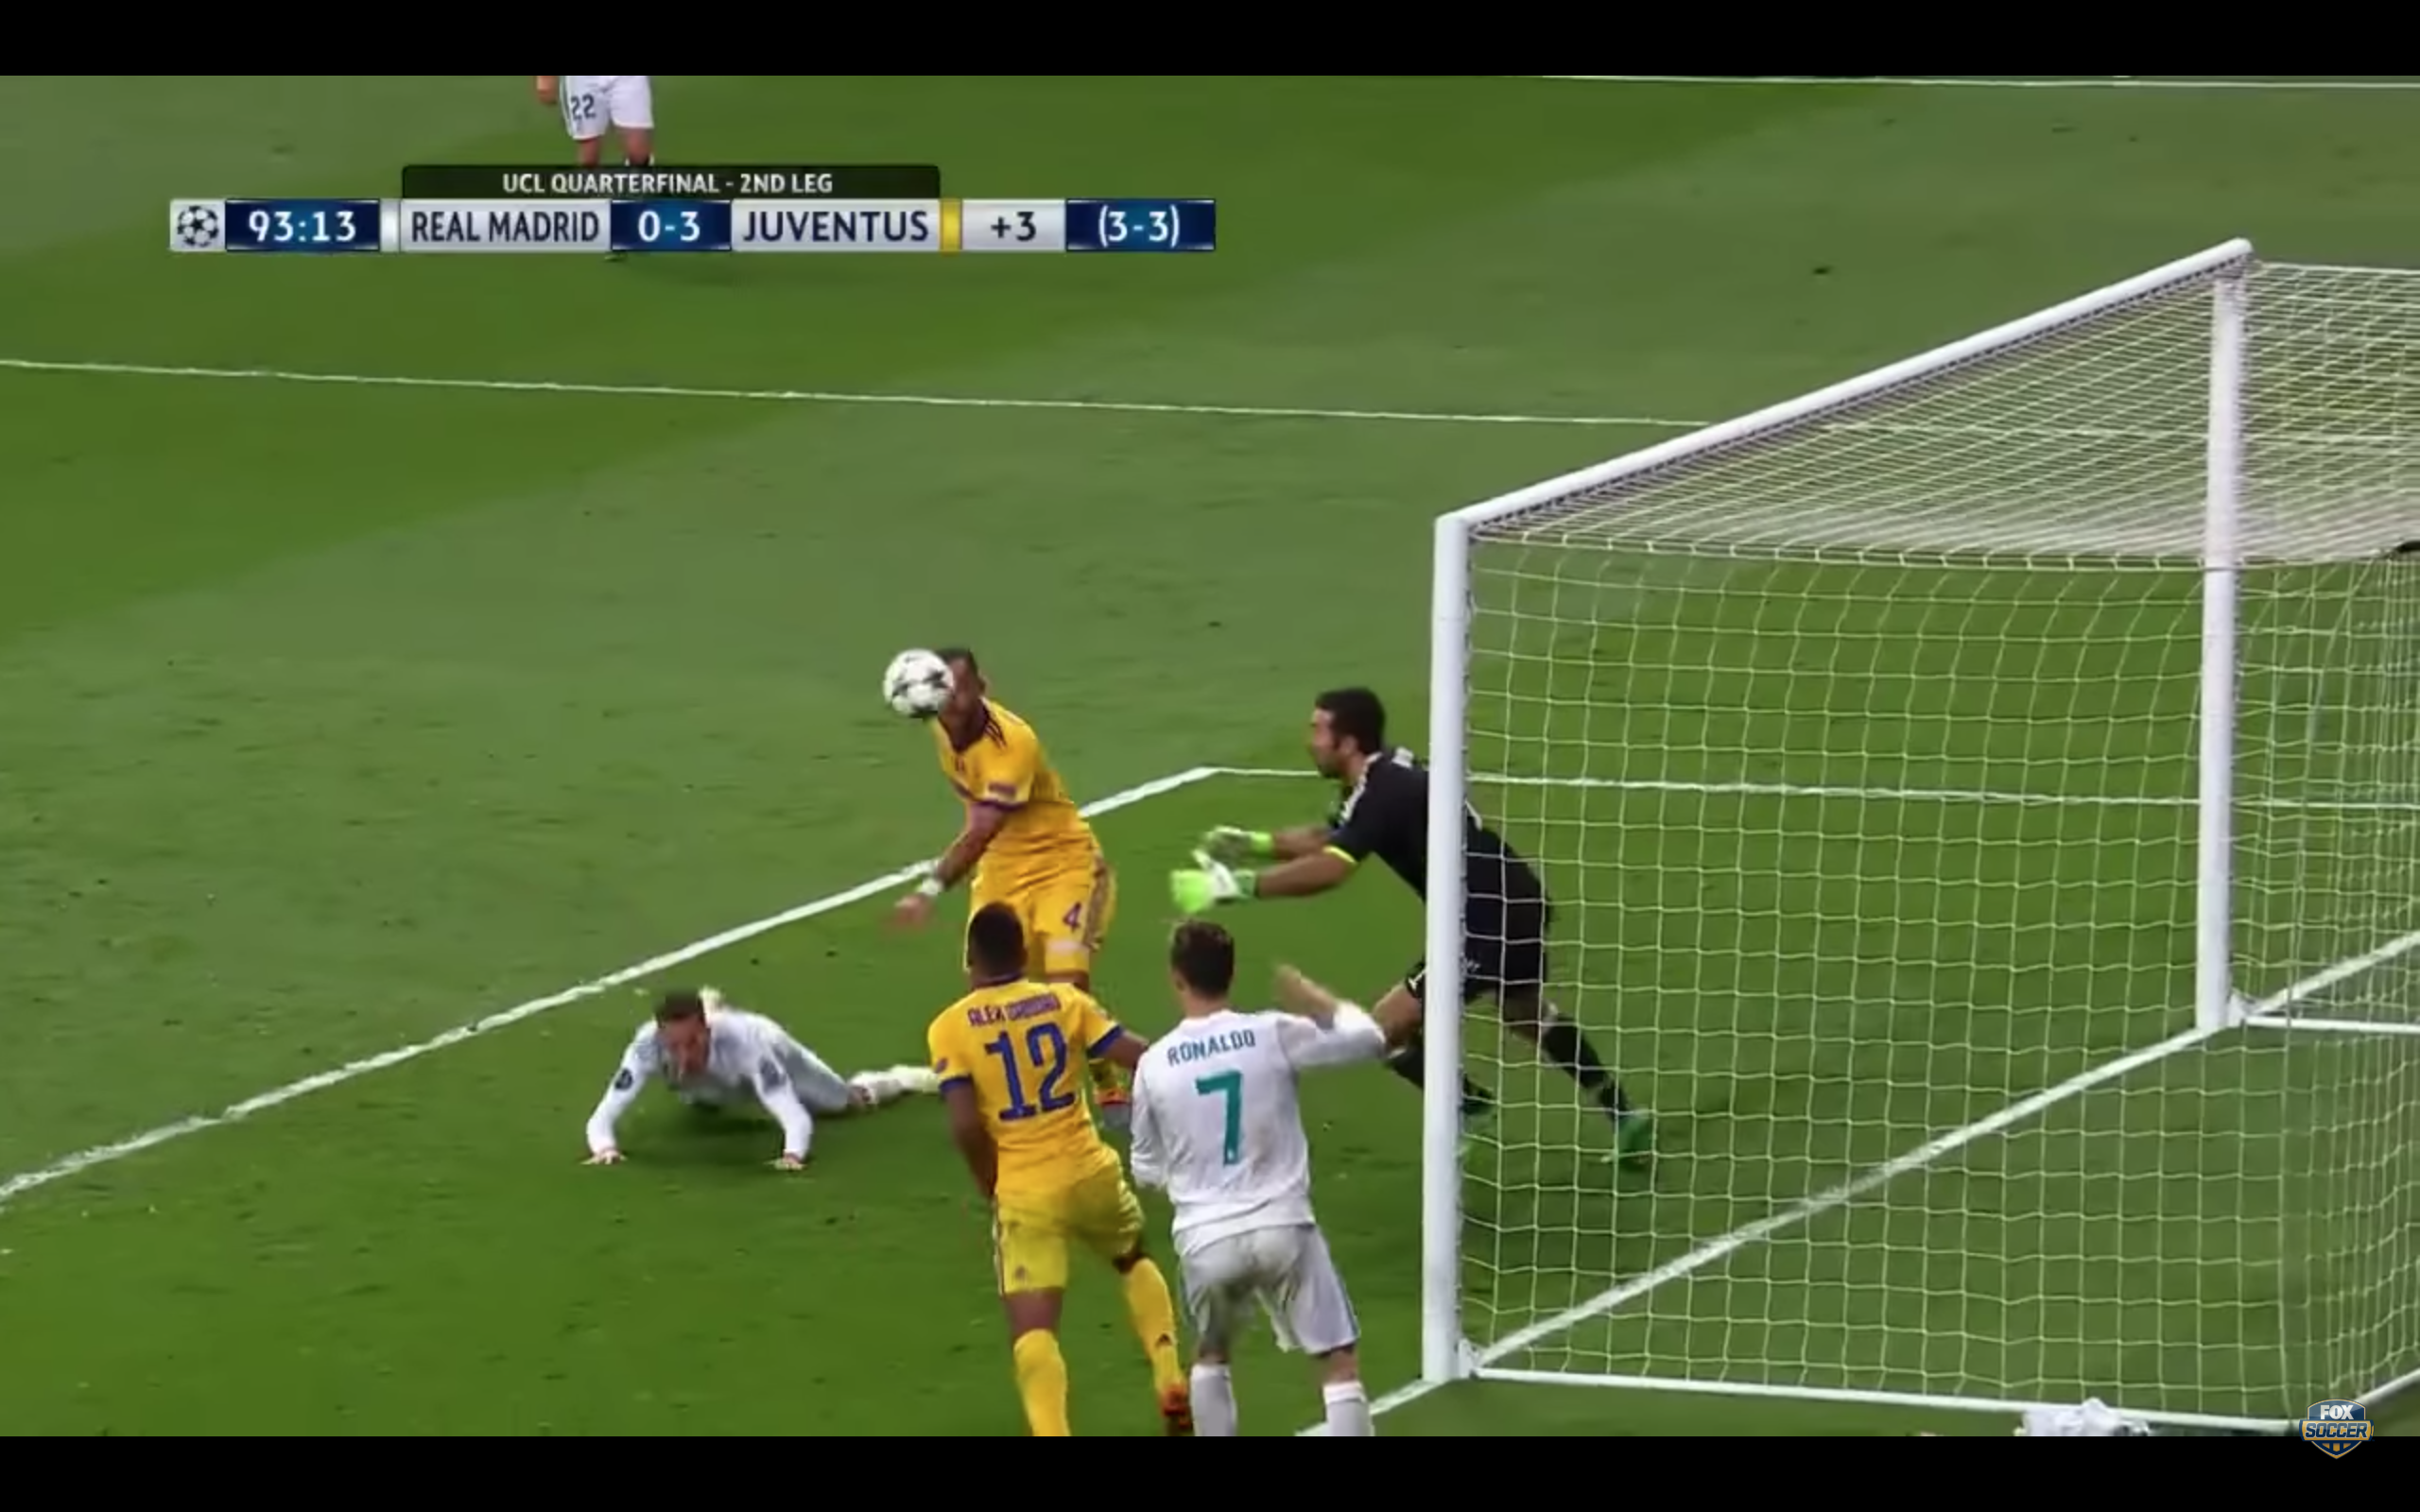soccer ball: (873, 644, 961, 730)
soccer player: (1167, 684, 1655, 1168), (914, 903, 1199, 1435), (1130, 911, 1390, 1437), (890, 649, 1135, 1120), (573, 973, 949, 1184)
